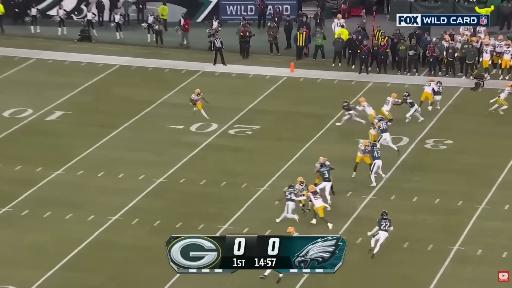Helmet: (381, 210, 388, 218), (371, 140, 378, 148), (287, 227, 295, 234), (376, 116, 385, 122), (308, 185, 315, 192), (297, 177, 304, 184), (471, 37, 478, 43), (404, 92, 410, 98), (195, 89, 201, 95), (444, 35, 450, 41), (362, 141, 369, 146), (288, 184, 294, 189), (359, 98, 365, 103), (498, 36, 503, 41), (485, 40, 490, 45), (506, 41, 511, 46), (320, 163, 326, 167), (436, 81, 442, 85), (319, 158, 325, 162), (391, 94, 397, 98), (506, 83, 511, 87), (484, 36, 489, 40), (337, 14, 341, 19), (343, 101, 349, 104), (429, 78, 434, 81), (460, 32, 464, 35), (324, 158, 327, 161)
Jersey: (308, 191, 324, 207), (318, 165, 331, 182), (378, 218, 391, 232), (332, 19, 345, 32), (383, 97, 395, 111), (360, 102, 374, 114), (376, 120, 388, 134), (371, 143, 380, 161), (455, 36, 468, 48), (494, 41, 505, 55), (295, 182, 306, 196), (482, 46, 493, 60), (424, 82, 436, 93), (499, 88, 511, 99), (358, 144, 369, 156), (285, 189, 295, 202), (342, 102, 353, 113), (476, 27, 486, 38), (460, 27, 473, 35), (503, 47, 511, 59), (191, 94, 201, 103), (406, 98, 415, 108), (434, 86, 443, 95), (442, 41, 450, 47), (316, 163, 320, 168)
Player: (368, 211, 393, 258), (308, 186, 333, 230), (374, 116, 399, 152), (395, 92, 423, 122), (276, 184, 298, 222), (317, 162, 334, 205), (336, 101, 365, 125), (352, 141, 371, 177), (490, 83, 511, 114), (418, 78, 437, 111), (371, 142, 385, 186), (190, 89, 209, 119), (315, 158, 334, 186), (492, 36, 505, 73), (381, 94, 397, 124), (481, 40, 493, 79), (357, 98, 375, 122), (500, 41, 511, 79), (332, 15, 345, 35), (434, 81, 443, 109), (455, 32, 469, 49), (475, 26, 487, 38), (369, 127, 378, 142), (300, 200, 311, 212), (460, 26, 473, 36), (442, 35, 451, 47), (287, 227, 298, 235)
